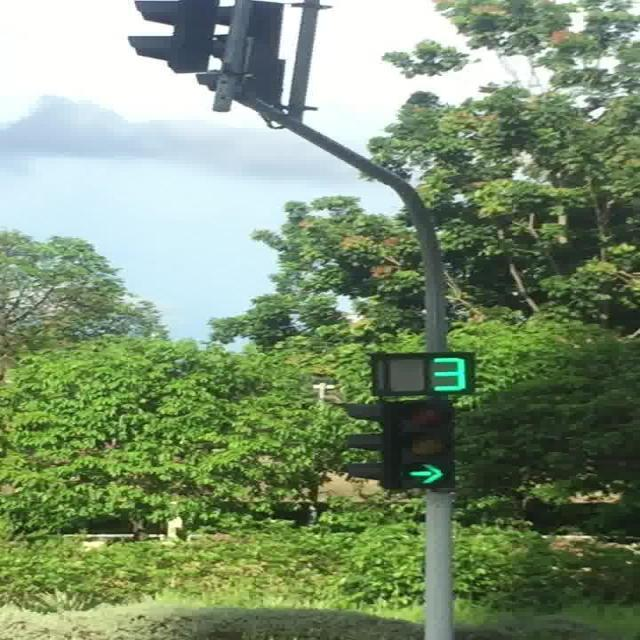green_light: (394, 400, 454, 490)
